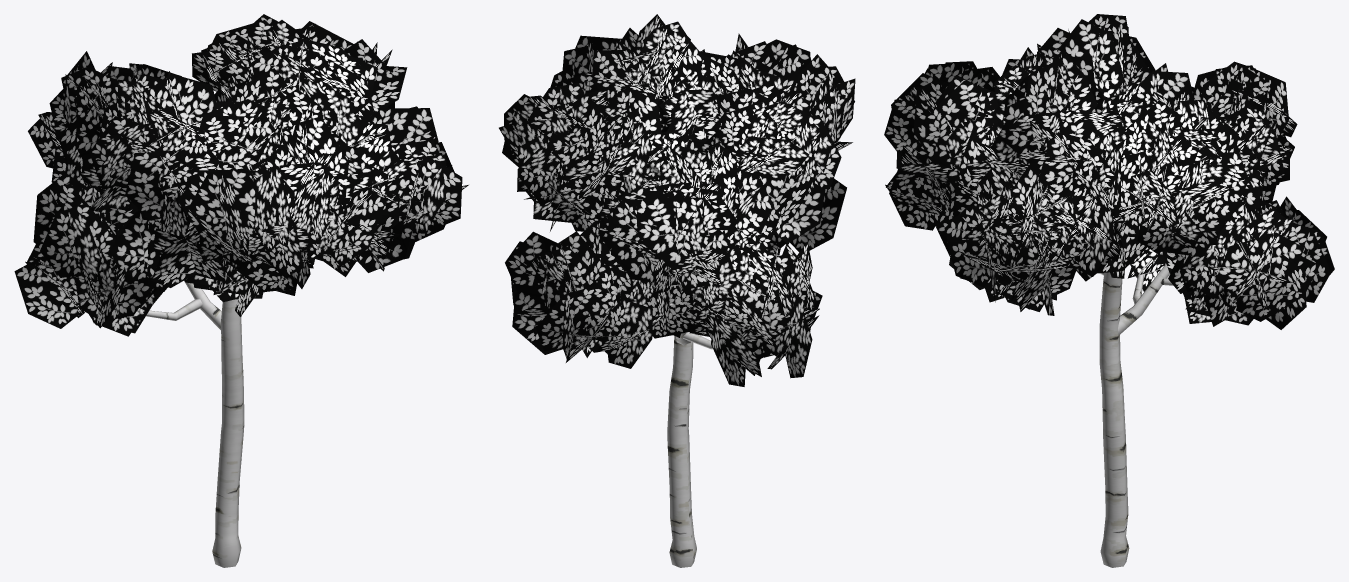
File: P_BirchTreeB1.obj
3 renders of one model, left to right at view 1: azimuth 30°, elevation 25°; view 2: azimuth 150°, elevation 25°; view 3: azimuth 270°, elevation 25°, orthographic. The views are drawn at different scales.
Bounding box in the file's own units: 14.28 × 20.34 × 15.74.
